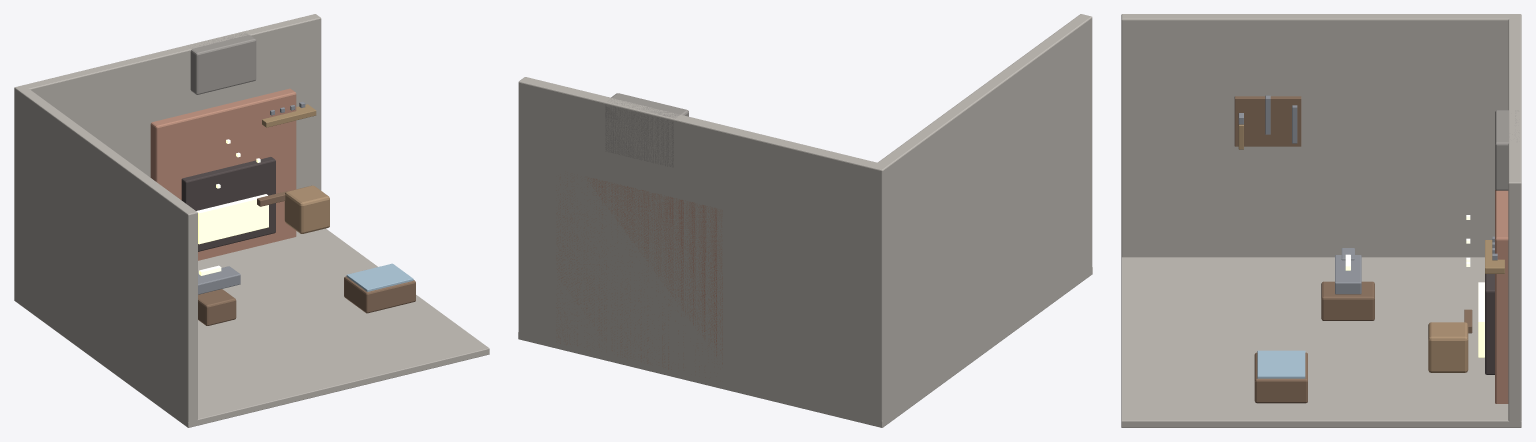
The model's file is forge_interior.glb.
The picture shows the model from 3 angles, left to right: view 1: azimuth 30°, elevation 25°; view 2: azimuth 150°, elevation 25°; view 3: azimuth 270°, elevation 25°; orthographic projection. The views are drawn at different scales.
Visible parts, largest first — view 1: Wall_L, Floor, Wall_back, Hearth_brick, Hearth_opening, Chimney, Hearth_glow, Bellows_a, Trough, Anvil_base, Trough_water, Anvil_top (+1 smaller); view 2: Wall_back, Wall_L, Hearth_brick, Floor, Chimney; view 3: Wall_L, Floor, Wall_back, Tool_rack, Hearth_brick, Bellows_a, Anvil_base, Trough, Trough_water, Chimney, Hearth_opening, Anvil_top (+2 smaller).
Boxes of the visible parts, x1,y1,x2,y2 form: Wall_L: (14,85,197,423); Floor: (14,228,489,427); Wall_back: (14,14,321,298); Hearth_brick: (150,88,296,260); Hearth_opening: (181,157,275,251); Chimney: (188,32,256,94); Hearth_glow: (196,194,268,244); Bellows_a: (284,185,329,233); Trough: (344,276,415,313); Anvil_base: (198,289,236,325); Trough_water: (346,263,413,291); Anvil_top: (198,266,240,294); Wall_back: (518,77,888,422); Wall_L: (871,14,1092,422); Hearth_brick: (556,177,722,377); Floor: (518,267,1092,427); Chimney: (605,93,688,167); Wall_L: (1121,14,1521,257); Floor: (1121,257,1521,427); Wall_back: (1508,14,1521,423); Tool_rack: (1234,96,1301,146); Hearth_brick: (1495,189,1508,403); Bellows_a: (1428,322,1468,372); Anvil_base: (1321,281,1374,320); Trough: (1254,352,1307,403); Trough_water: (1257,350,1305,378); Chimney: (1495,110,1518,190); Hearth_opening: (1485,274,1494,374); Anvil_top: (1335,255,1361,294).
Bounding box in the file's own units: 3 × 2.03 × 3.
